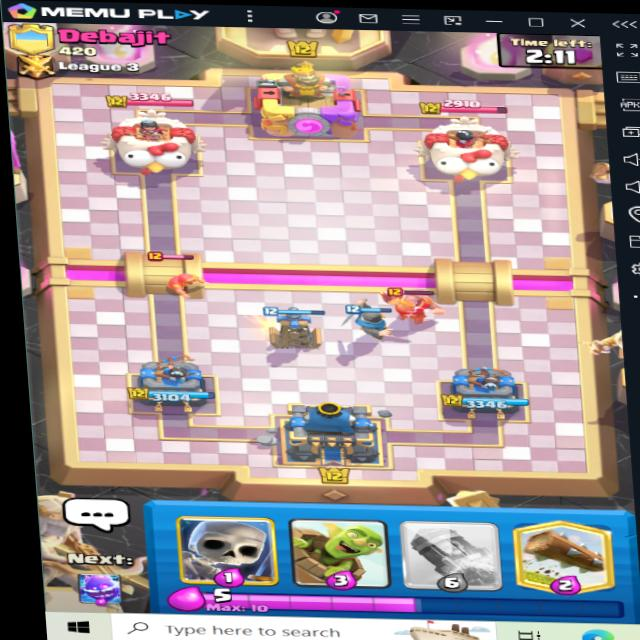knight: (381, 275, 452, 329)
wizard: (139, 248, 221, 312)
